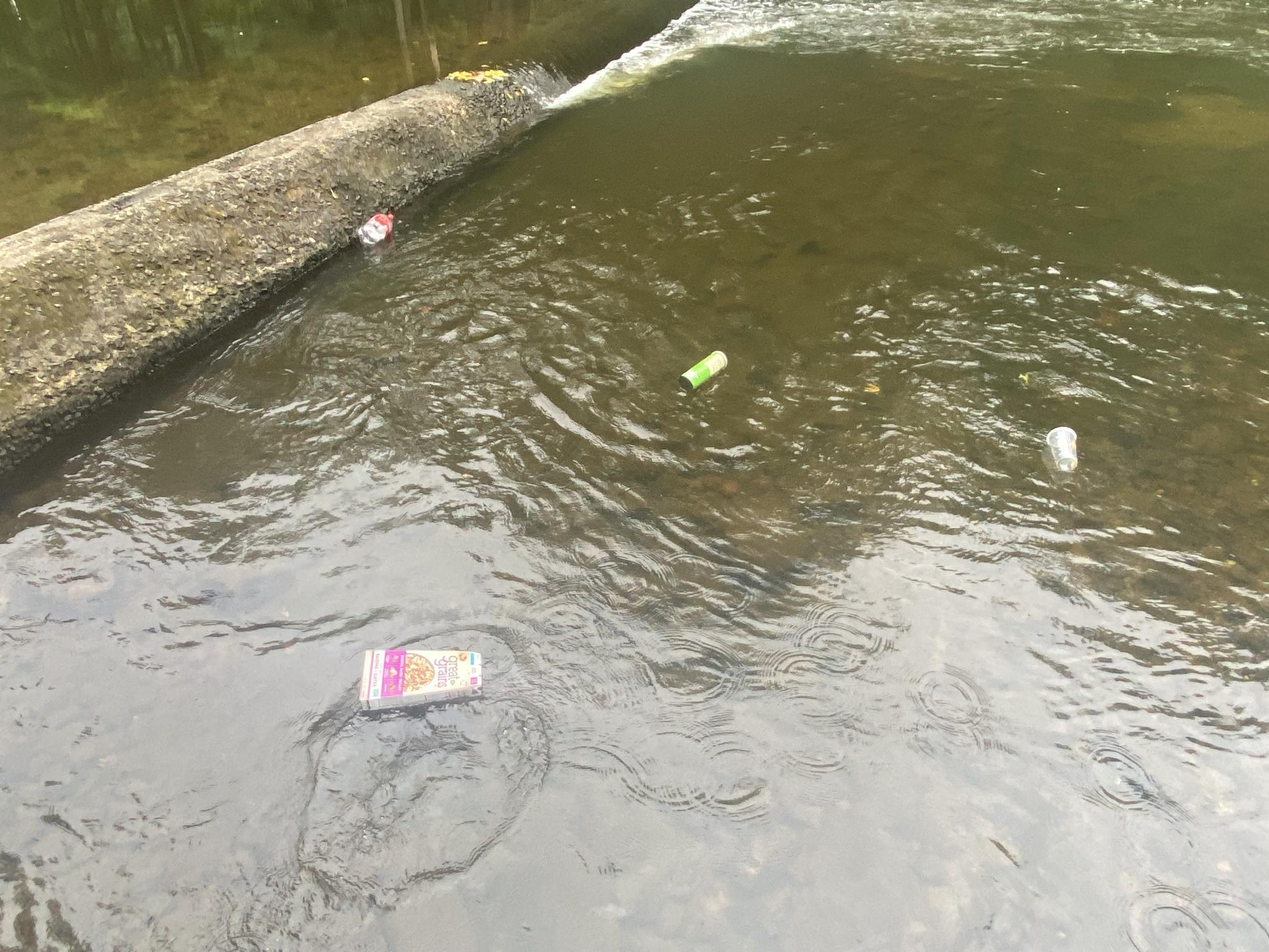cardboard: (347, 641, 495, 724)
metal: (671, 343, 739, 397)
plastic: (345, 206, 401, 253), (1038, 422, 1084, 477)
